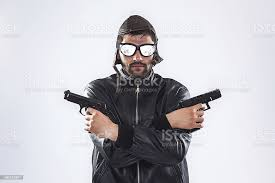gun: (59, 88, 115, 123), (176, 89, 222, 124)
